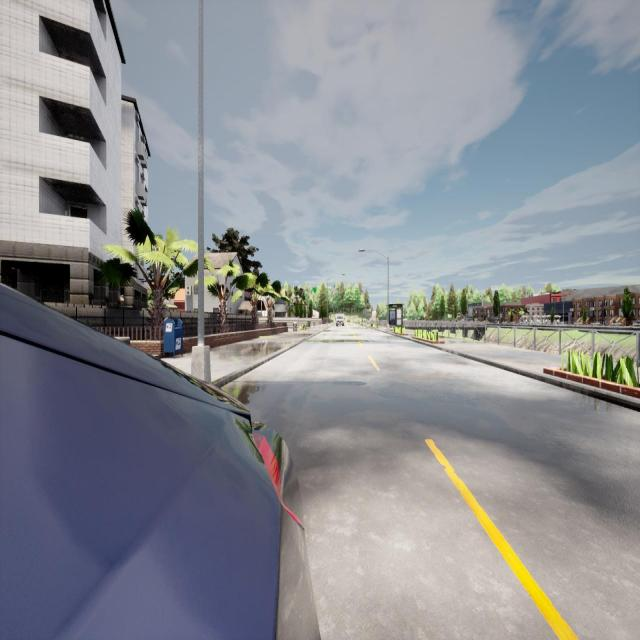Vehicle: (0, 285, 319, 638), (334, 313, 346, 327)
